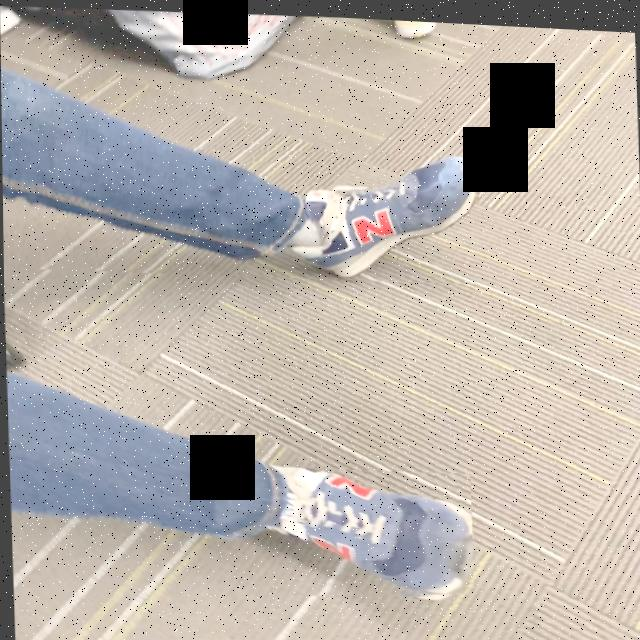shoe: (21, 152, 477, 276), (267, 464, 471, 591)
